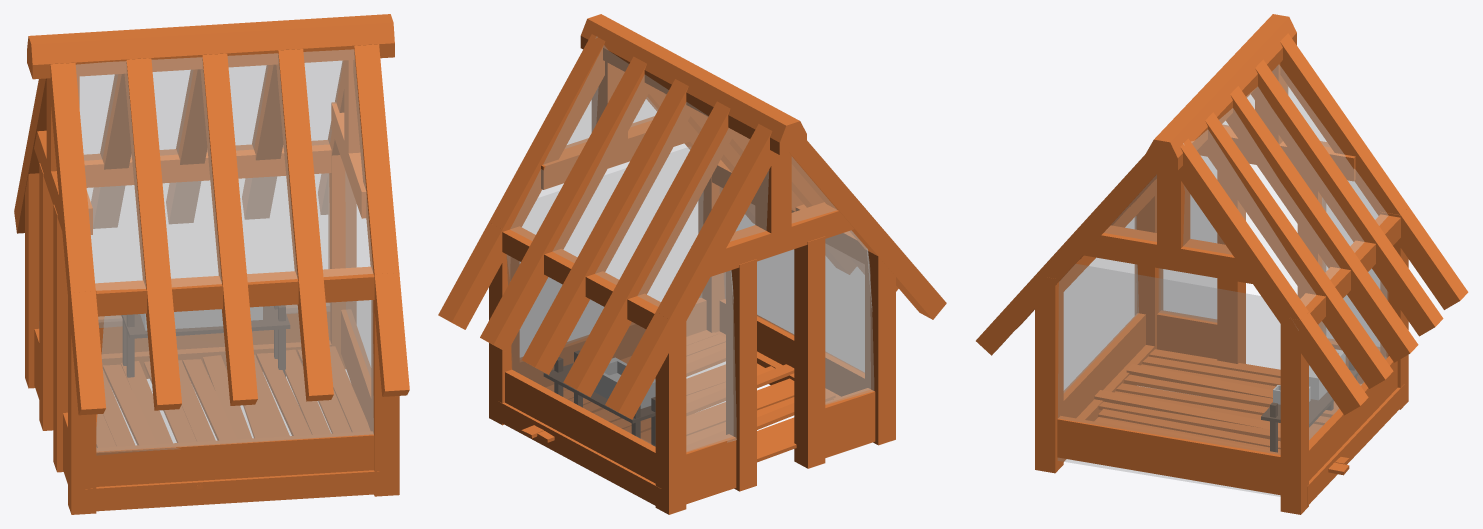
Rendered from Modelado_Invernadero_002.glb.
3 renders of one model, left to right at view 1: azimuth 30°, elevation 25°; view 2: azimuth 150°, elevation 25°; view 3: azimuth 270°, elevation 25°, orthographic. The views are drawn at different scales.
Visible parts, largest first — view 1: Invernadero, Cube, Invenadero_001; view 2: Invernadero, Cube, Invenadero_001; view 3: Invernadero, Cube, Invenadero_001.
Boxes of the visible parts, left/top/right/bottom form: Invernadero: left=14, top=14, right=409, bottom=514; Cube: left=76, top=49, right=373, bottom=455; Invenadero_001: left=96, top=306, right=370, bottom=488; Invernadero: left=438, top=14, right=946, bottom=514; Cube: left=506, top=37, right=873, bottom=451; Invenadero_001: left=521, top=330, right=835, bottom=462; Invernadero: left=976, top=14, right=1468, bottom=514; Cube: left=1058, top=65, right=1388, bottom=496; Invenadero_001: left=1094, top=349, right=1361, bottom=475.
Size of the model in its own units: 27.48 by 25.53 by 31.98.
